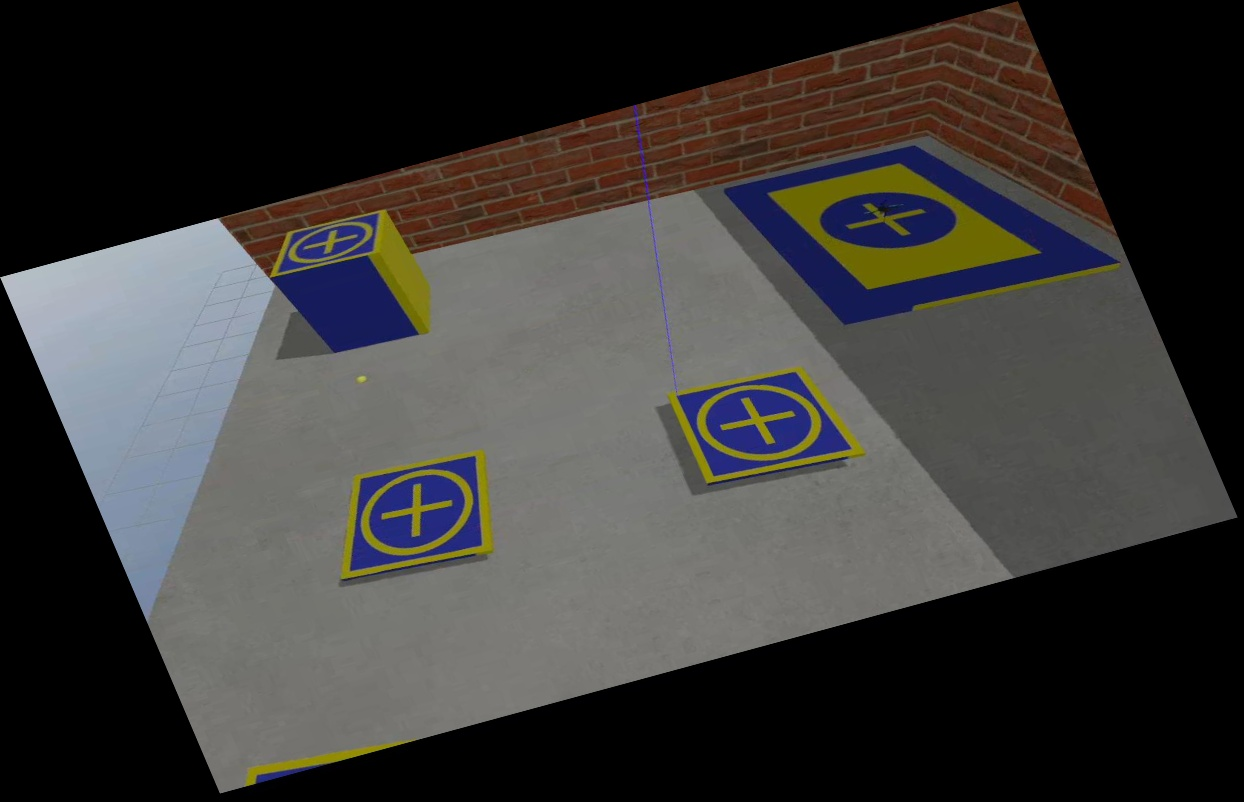large_base: (725, 100, 1123, 355)
small_base: (305, 443, 524, 590), (666, 354, 867, 499), (252, 200, 406, 289)
